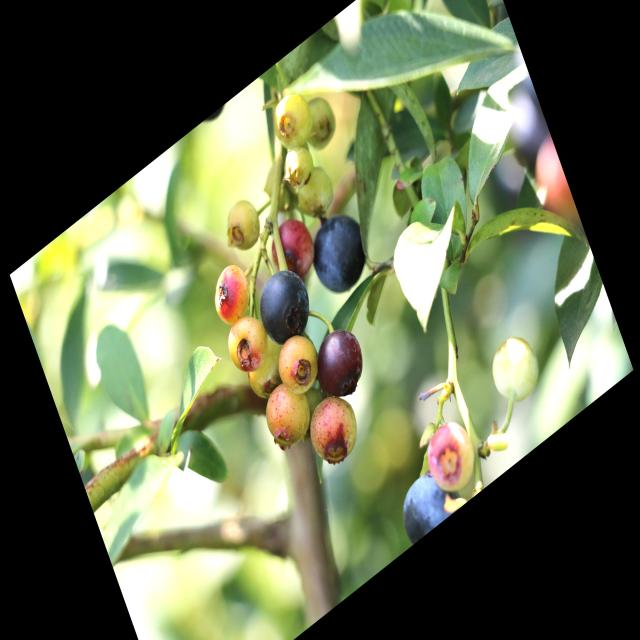blueberry: (304, 198, 376, 307), (249, 255, 320, 361), (388, 454, 462, 550)
blueberry-halfripe: (310, 320, 370, 408), (264, 208, 318, 289), (207, 260, 254, 330)
blueberry-unripe: (302, 385, 366, 475), (482, 326, 544, 416), (421, 412, 481, 501), (262, 374, 315, 452), (290, 156, 342, 230), (224, 305, 274, 381), (274, 326, 324, 402), (268, 84, 317, 158), (219, 190, 268, 260), (296, 86, 341, 158), (280, 138, 317, 190)
